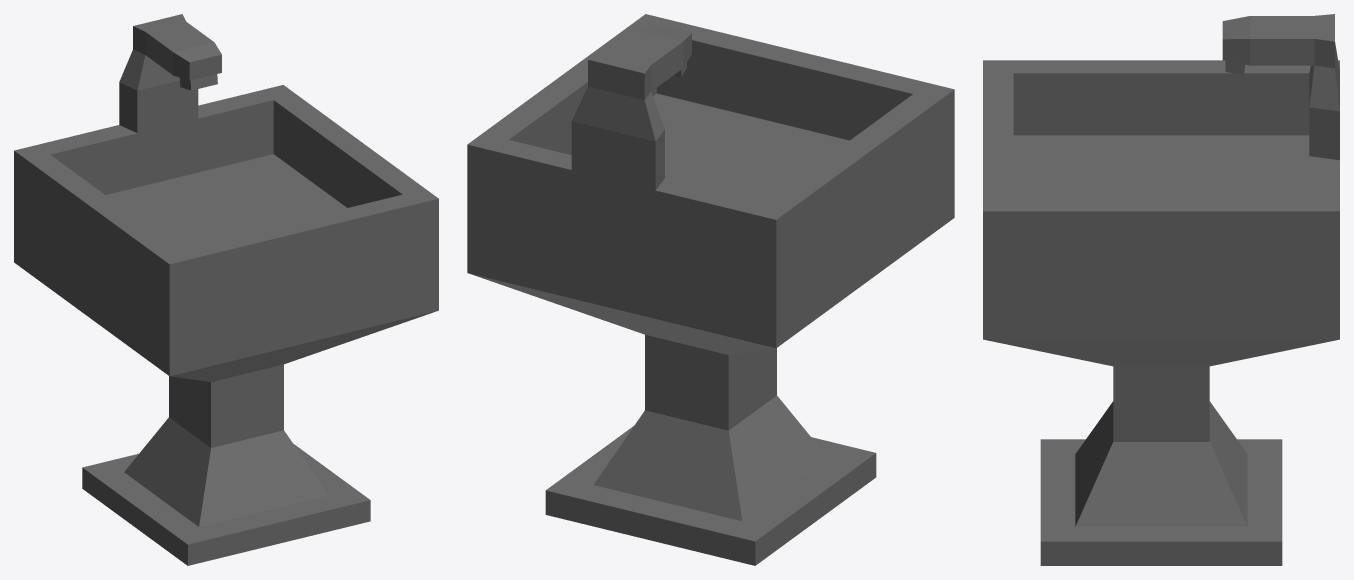
File: PIA.fbx
3 renders of one model, left to right at view 1: azimuth 30°, elevation 25°; view 2: azimuth 150°, elevation 25°; view 3: azimuth 270°, elevation 25°, orthographic. The views are drawn at different scales.
Parts seen in each view (by area): view 1: Cube; view 2: Cube; view 3: Cube.
Part boxes in pixels (<box>): Cube: <box>14,14,438,565</box>; Cube: <box>467,14,954,565</box>; Cube: <box>983,14,1339,565</box>.
Size of the model in its own units: 295 by 448 by 295.
1 material, 1 textured.
